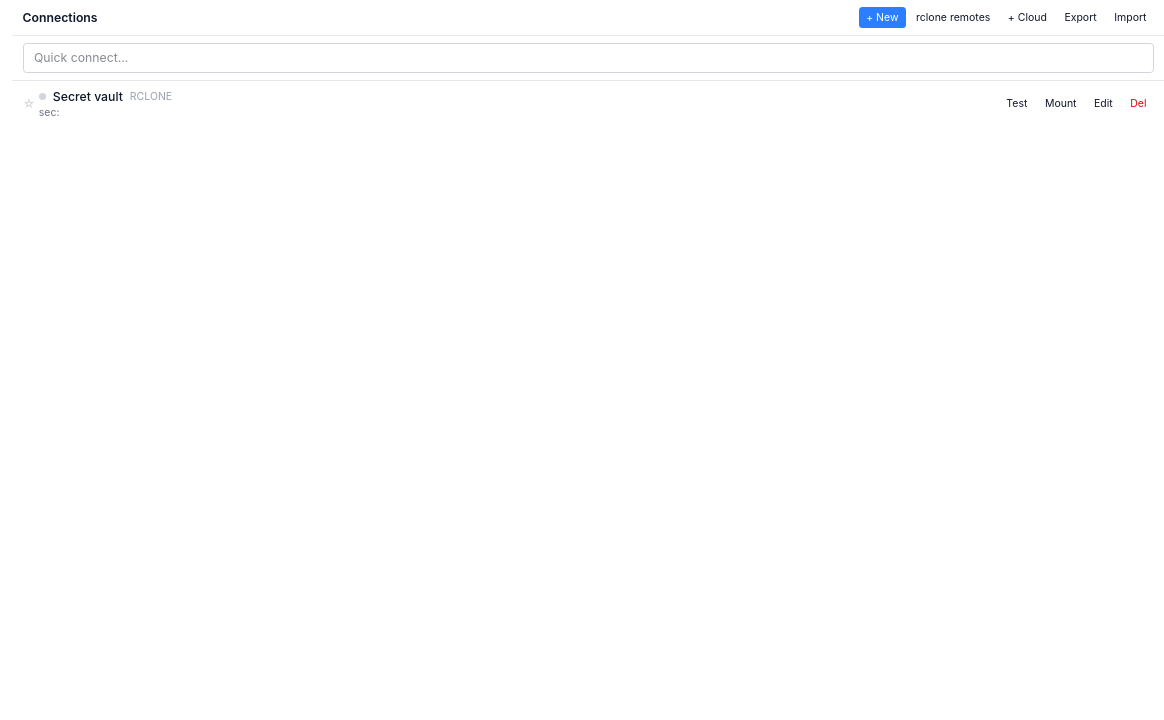
Test: ConnectionPanel × rclone › Advanced: a crypt remote shows the banner and opens its underlying remote
Click the text "Secret vault".
click(88, 97)  # box [53,88,123,106]
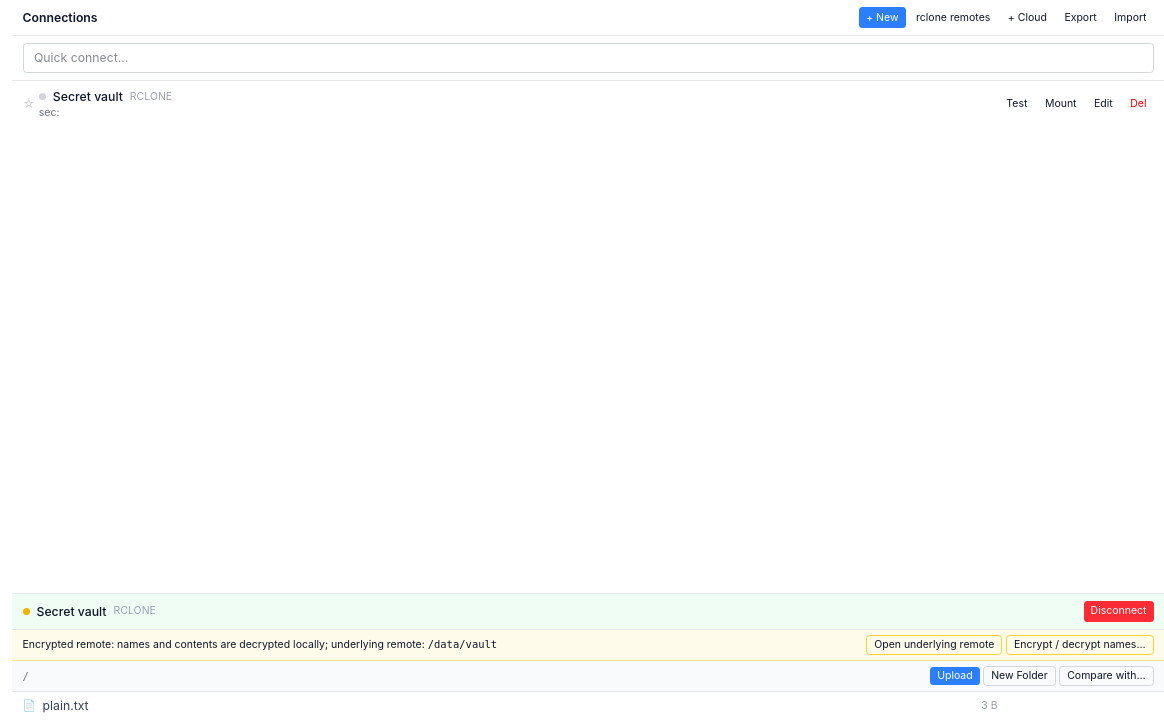
Check: the text "plain.txt" is shown, box [43,697,89,715]
Check: the element with test id "crypt-banner" shows "Encrypted remote: names and contents are decrypted locally; underlying remote: /data/vault", box [12,630,1163,661]
Click the button "Open underlying remote".
click(934, 645)  # box [866,635,1002,654]
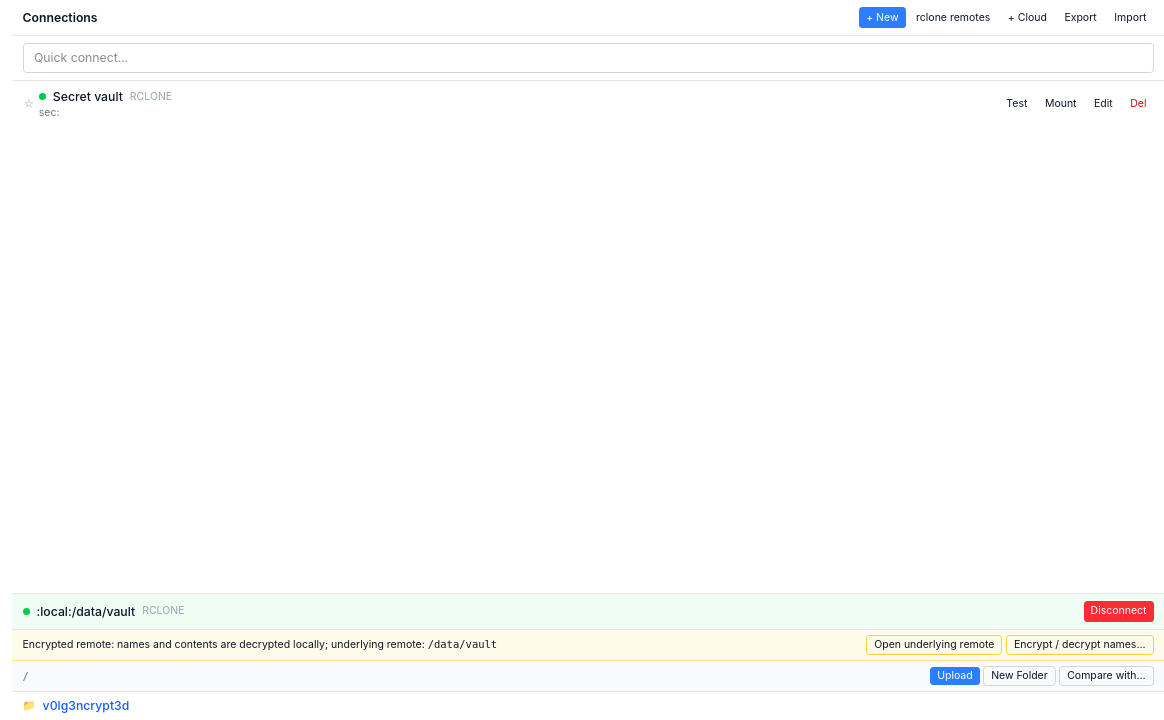
Check: the text "v0lg3ncrypt3d" is shown, box [43,697,129,715]
Check: the text ":local:/data/vault" is shown, box [36,602,135,620]
